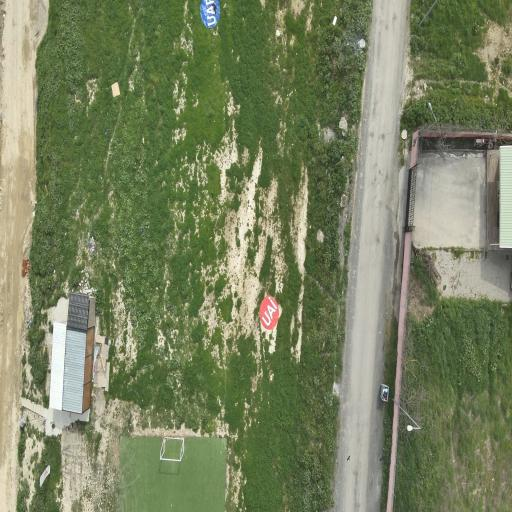UAI: (260, 296, 279, 329)
UAP: (201, 0, 220, 28)
person: (212, 2, 216, 14)
